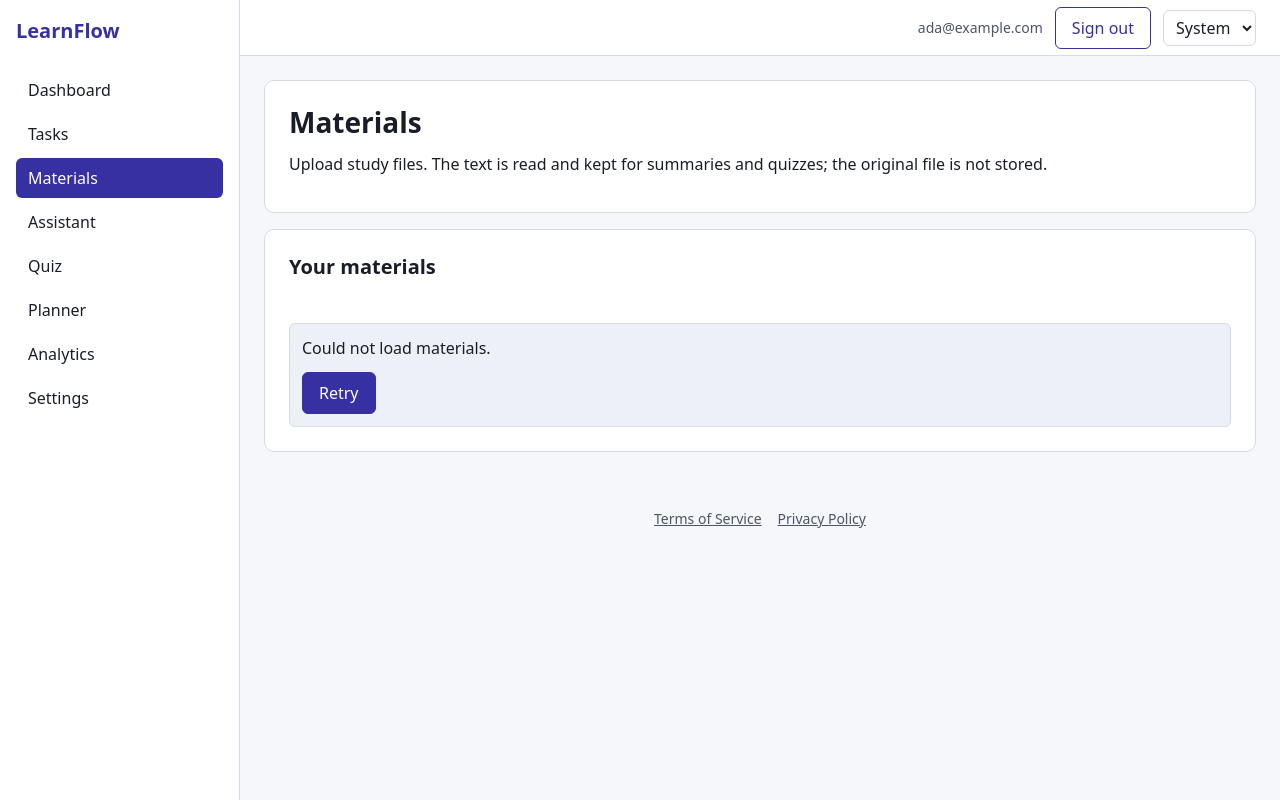
Test: Materials page states › shows an error with a retry that loads the list
Expected: the element that starts with "Materials" is shown, 240,56 -> 1279,492
Expected: the message "Could not load materials. Retry" is shown, 289,323 -> 1231,427
What coordinates should you click on to do the following:
click the button "Retry"
I would click on:
 (339, 393)
Its box is 302,372 -> 376,414.
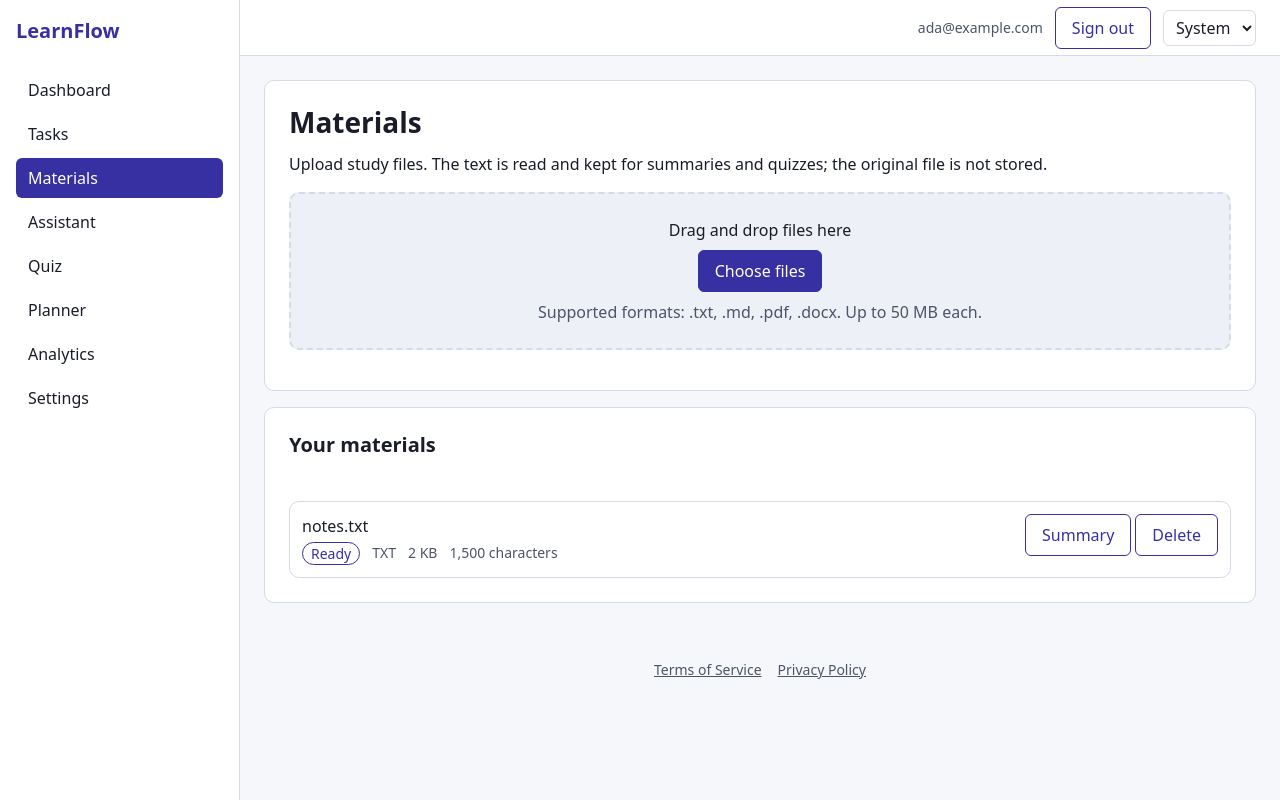
Result: the text "notes.txt" is shown at 302,515 -> 368,537
Result: the button "Choose files" is shown at 698,250 -> 822,292
